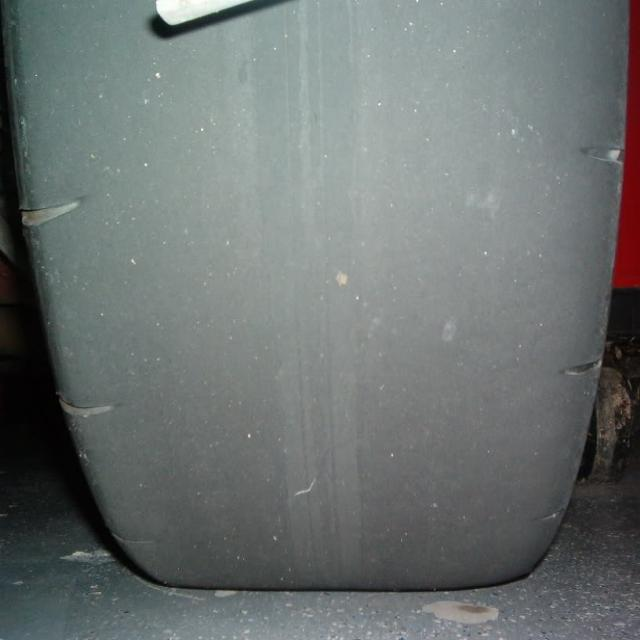Flat spots: (71, 28, 577, 520)
